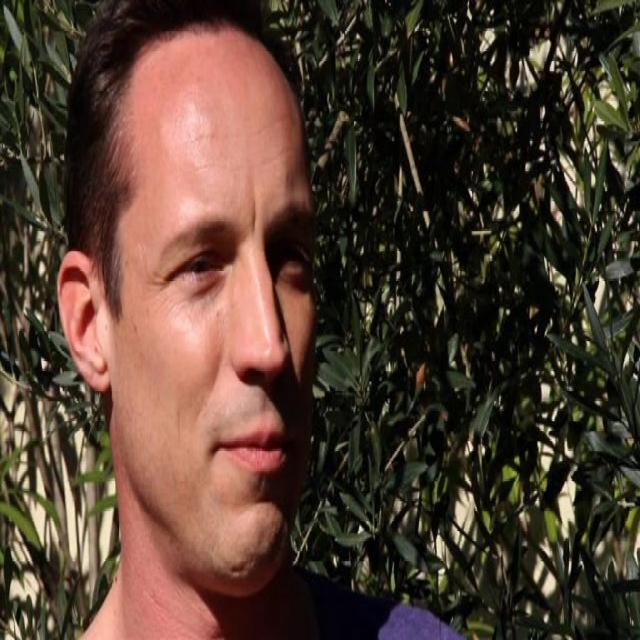nomask: (114, 33, 314, 569)
